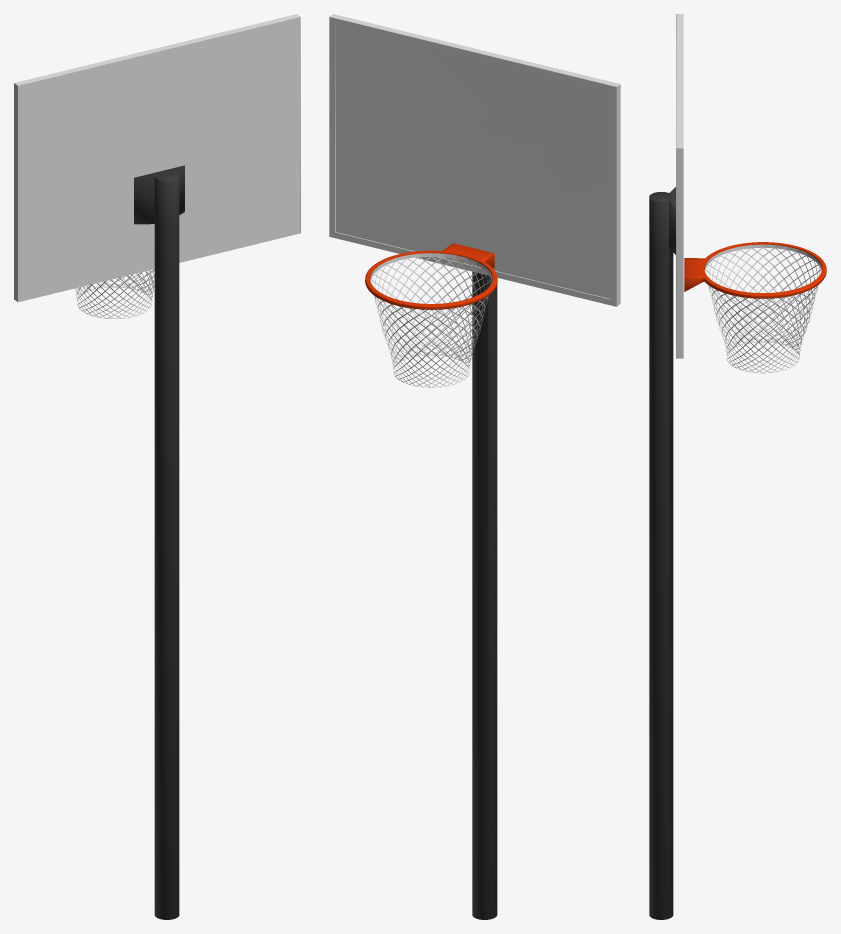
Rendered from TABELA_ARENA.fbx.
3 renders of one model, left to right at view 1: azimuth 30°, elevation 25°; view 2: azimuth 150°, elevation 25°; view 3: azimuth 270°, elevation 25°, orthographic. The views are drawn at different scales.
Visible parts, largest first — view 1: Cylinder.001; view 2: Cylinder.001; view 3: Cylinder.001.
Boxes of the visible parts, left/top/right/bottom form: Cylinder.001: left=14, top=14, right=300, bottom=919; Cylinder.001: left=329, top=14, right=620, bottom=919; Cylinder.001: left=649, top=14, right=826, bottom=919.
Size of the model in its own units: 231 by 669 by 129.
